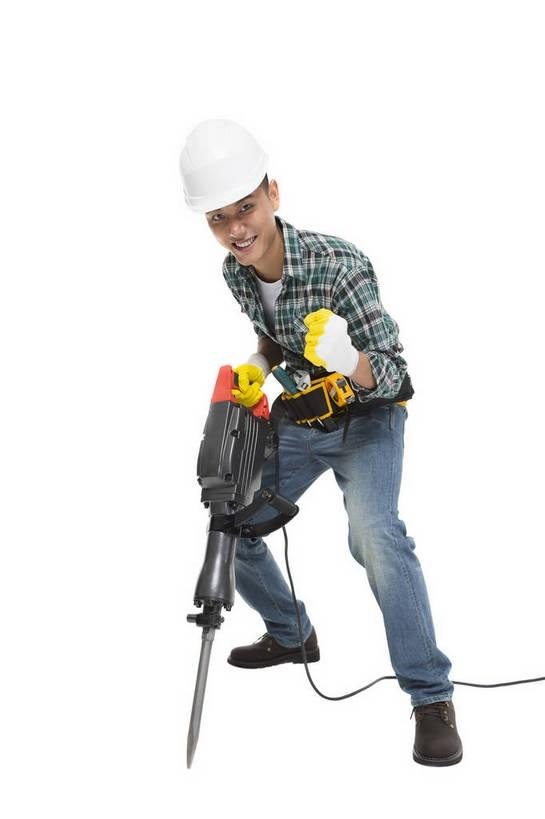helmet: (172, 110, 277, 221)
no_wear: (226, 257, 390, 404)
